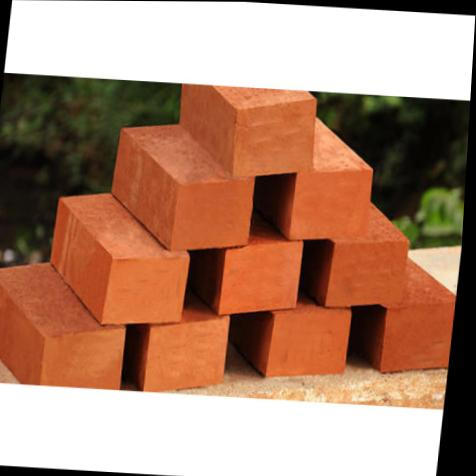brick: (227, 93, 321, 185), (142, 311, 232, 394), (219, 237, 306, 320), (292, 160, 376, 244), (166, 175, 254, 255), (100, 251, 190, 328), (269, 304, 354, 381), (378, 296, 456, 379), (329, 234, 412, 312), (40, 328, 125, 389)
